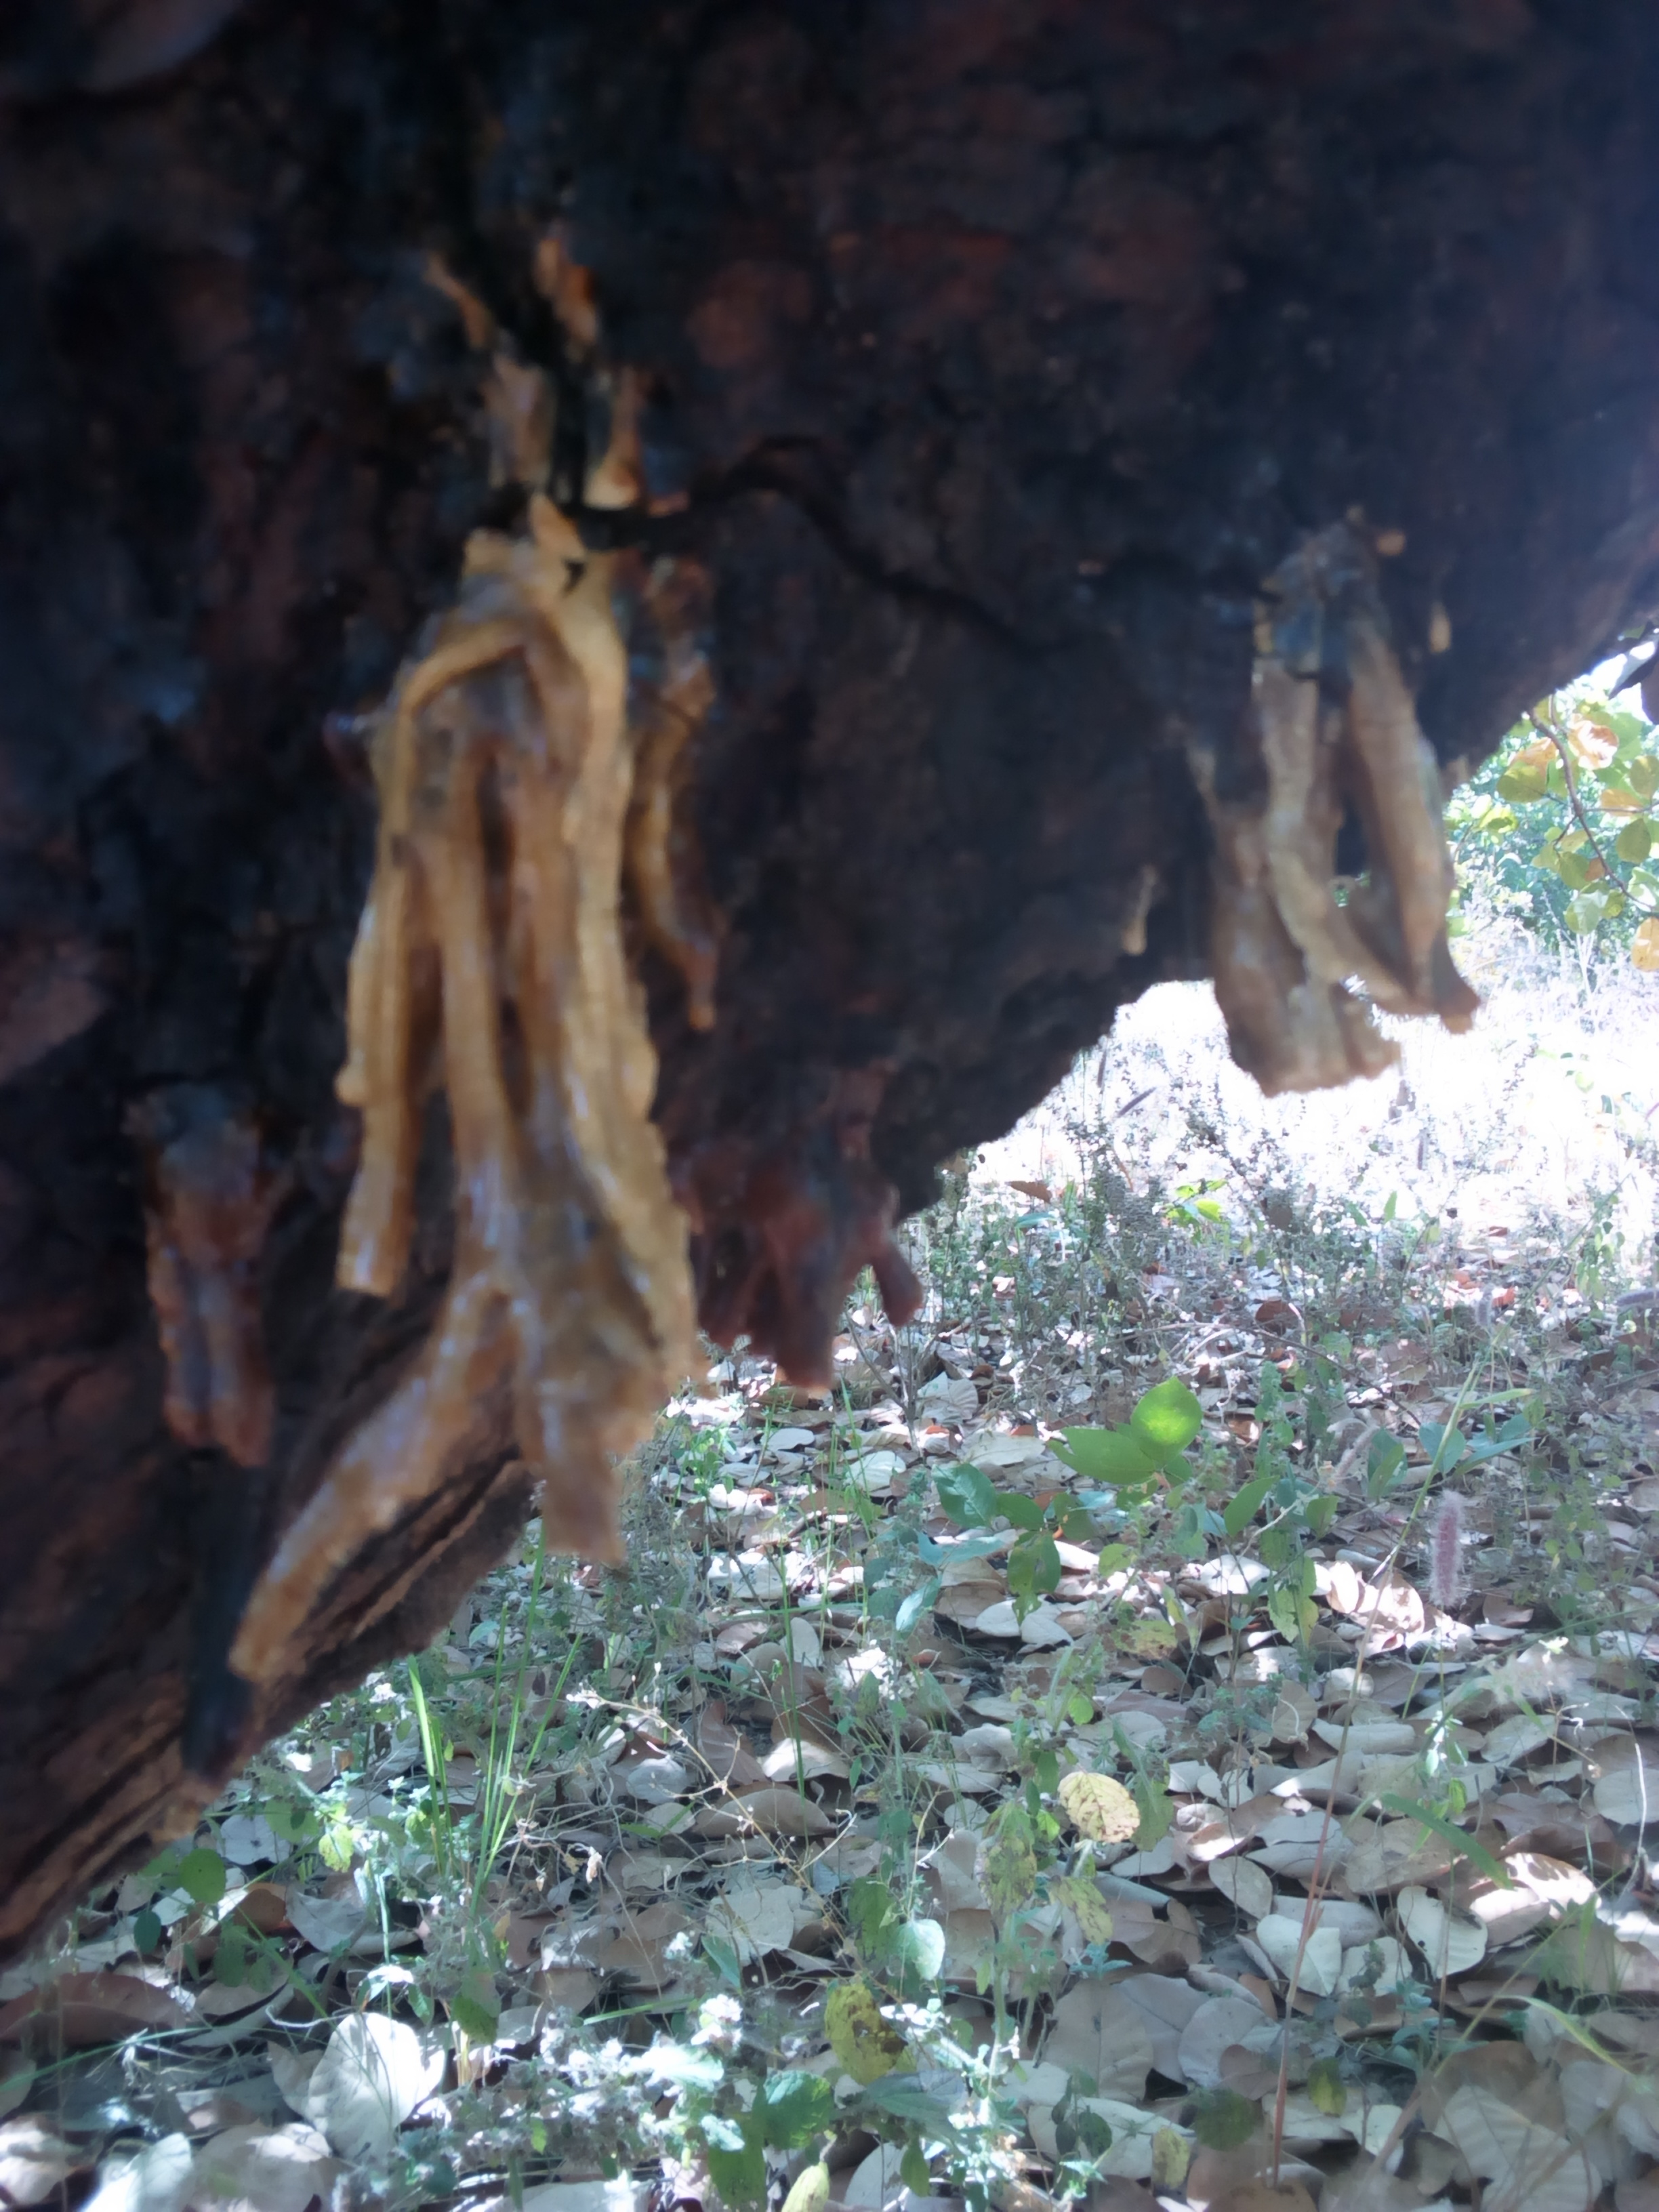Gommose: (101, 80, 1530, 1397)
